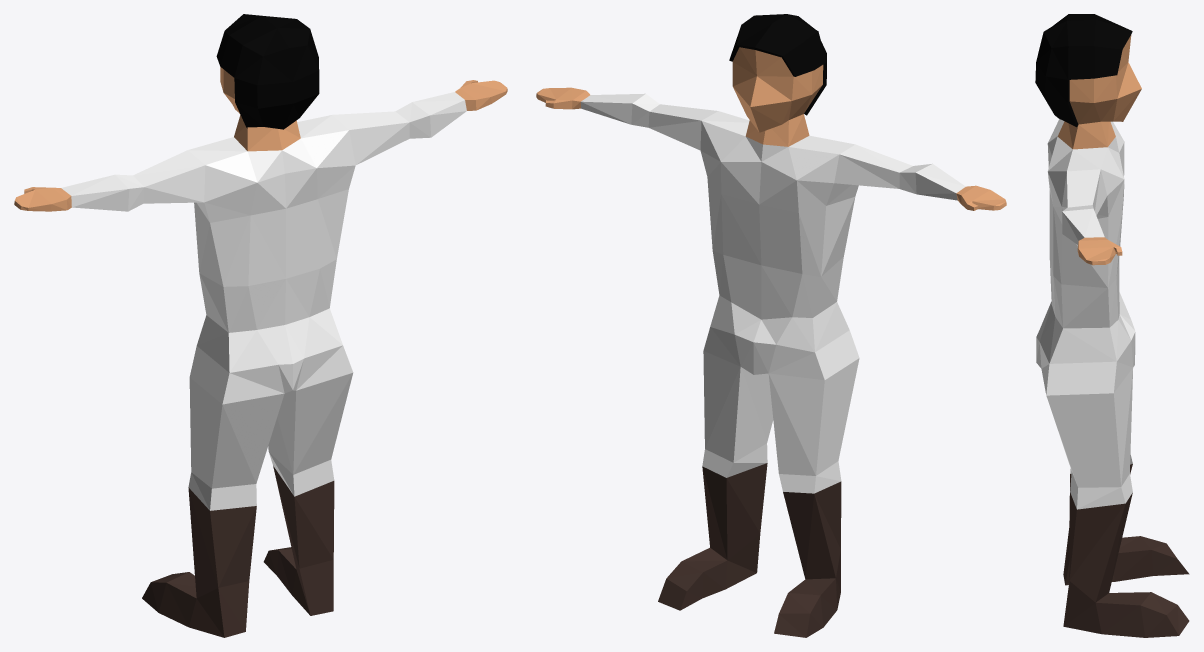
Rendered from Syrian.obj.
3 renders of one model, left to right at view 1: azimuth 30°, elevation 25°; view 2: azimuth 150°, elevation 25°; view 3: azimuth 270°, elevation 25°, orthographic. The views are drawn at different scales.
Visible parts, largest first — view 1: body_Cube, hair_Cube.001; view 2: body_Cube, hair_Cube.001; view 3: body_Cube, hair_Cube.001.
Part boxes in pixels (<box>): body_Cube: <box>14,67,507,637</box>; hair_Cube.001: <box>216,14,319,129</box>; body_Cube: <box>536,47,1006,637</box>; hair_Cube.001: <box>729,14,826,115</box>; body_Cube: <box>1036,35,1189,637</box>; hair_Cube.001: <box>1035,14,1132,127</box>.
Bounding box in the file's own units: 13.34 × 15.61 × 3.75.
1 material, 1 textured.
